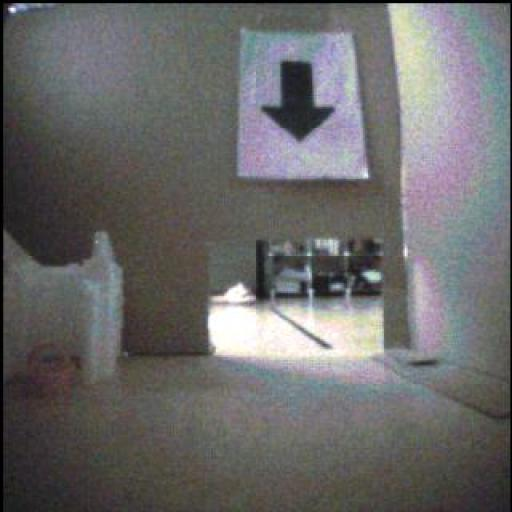arrow: (264, 62, 336, 142)
